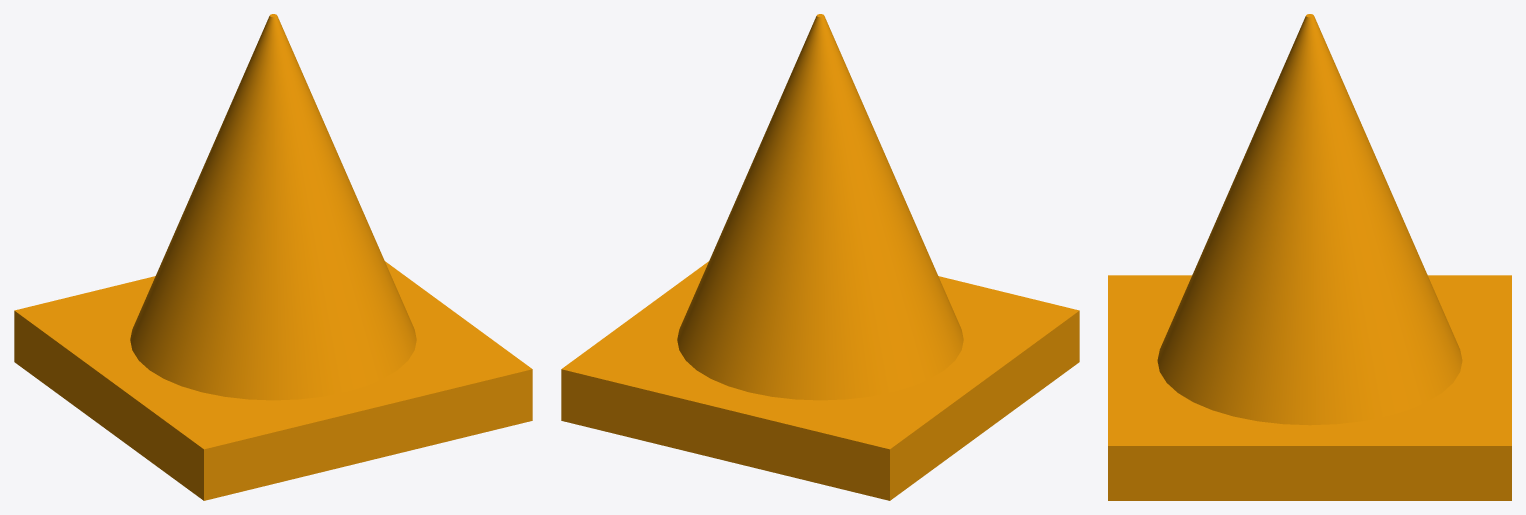
File: entity.glb
The picture shows the model from 3 angles, left to right: view 1: azimuth 30°, elevation 25°; view 2: azimuth 150°, elevation 25°; view 3: azimuth 270°, elevation 25°; orthographic projection. The views are drawn at different scales.
Size of the model in its own units: 1 by 1.09 by 1.
